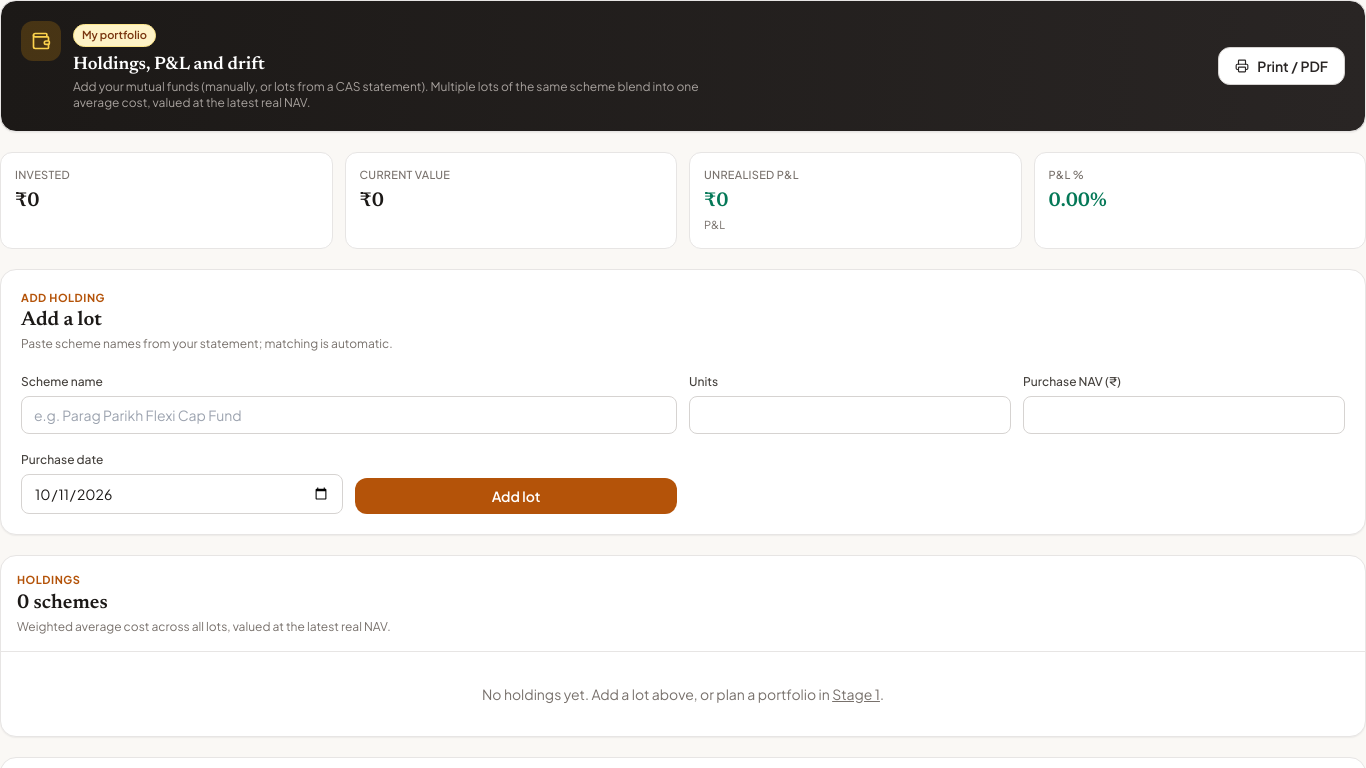
Scenario: Portfolio page › blends a manual lot and shows P&L
Expected: the heading "Holdings, P&L and drift" is shown, [73,56,265,74]
In the field labelled "Scheme name": (349, 415) [21,396,677,434], type "Parag Parikh Flexi Cap Fund"
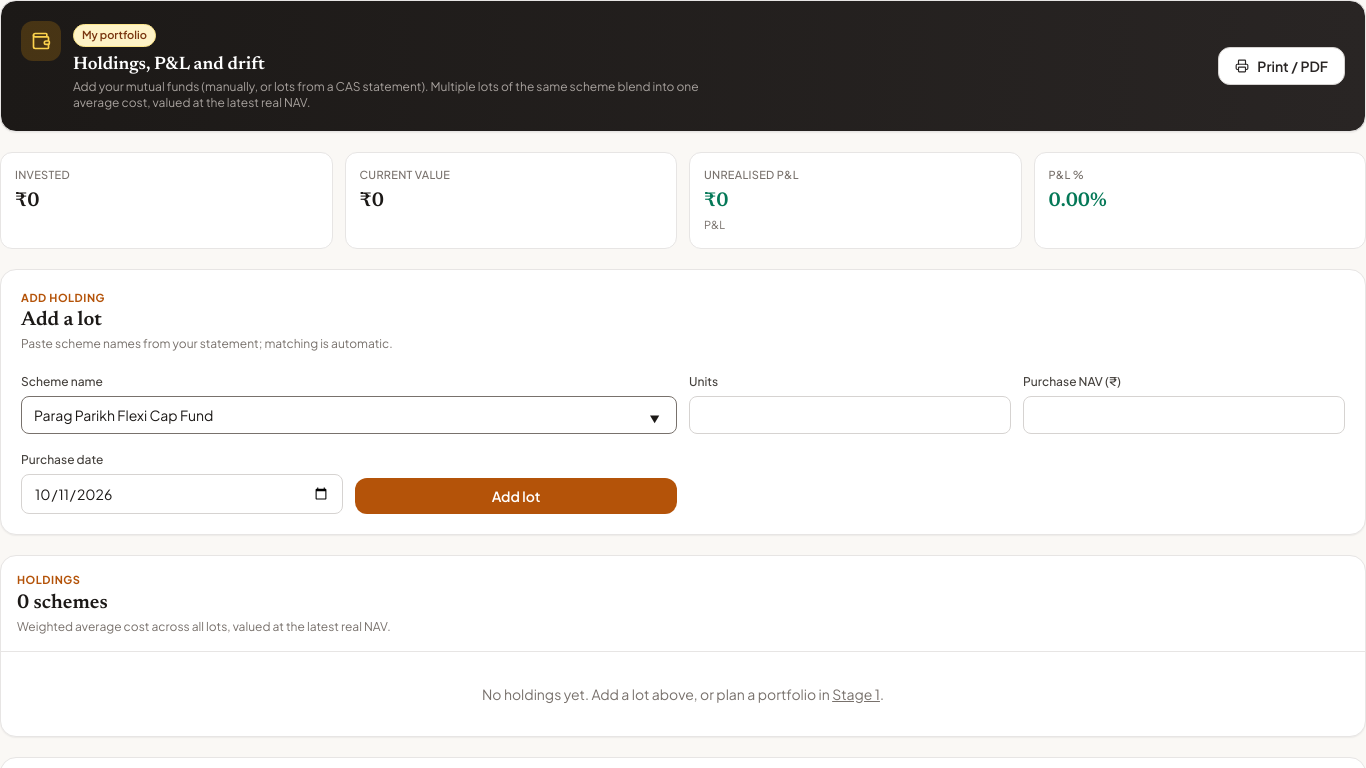
In the number field labelled "Units": (850, 415) [689,396,1011,434], type "100"
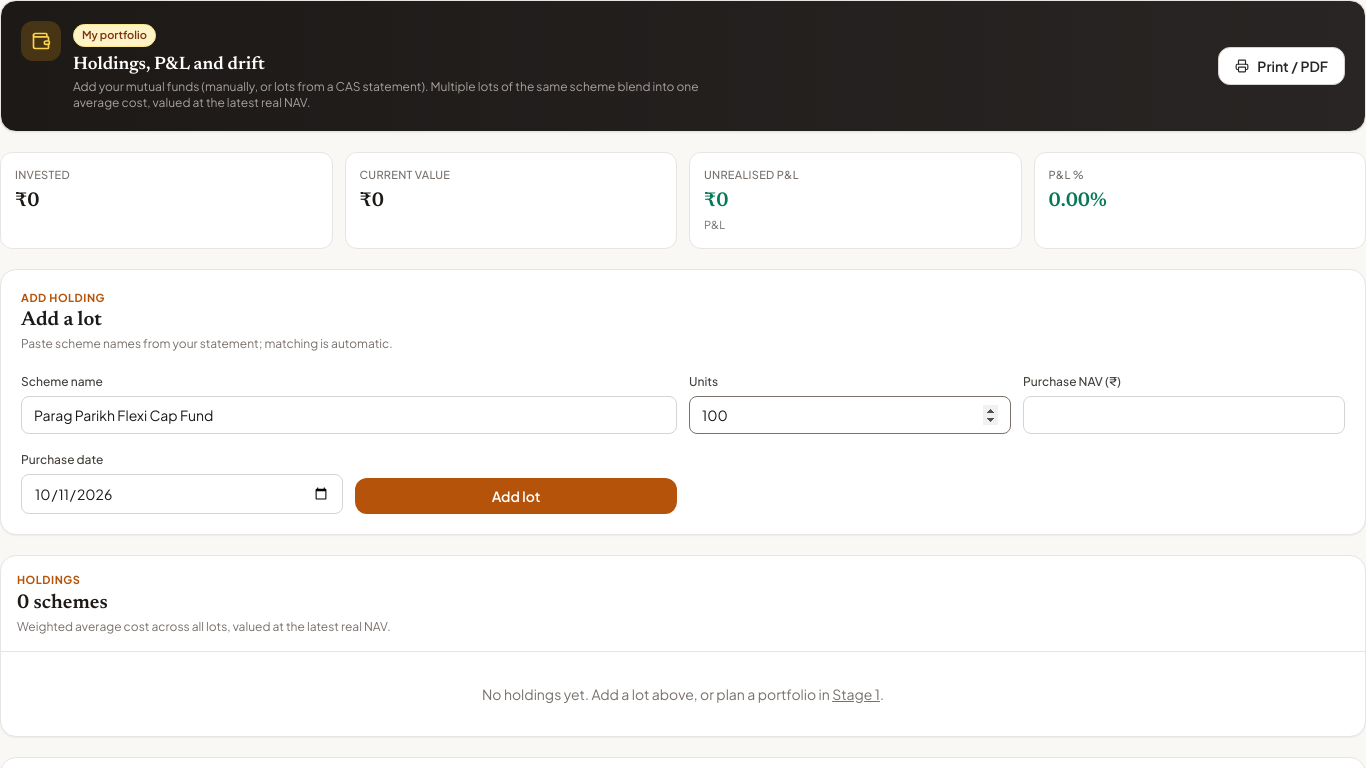
In the number field labelled "Purchase NAV (₹)": (1184, 415) [1023,396,1345,434], type "50"
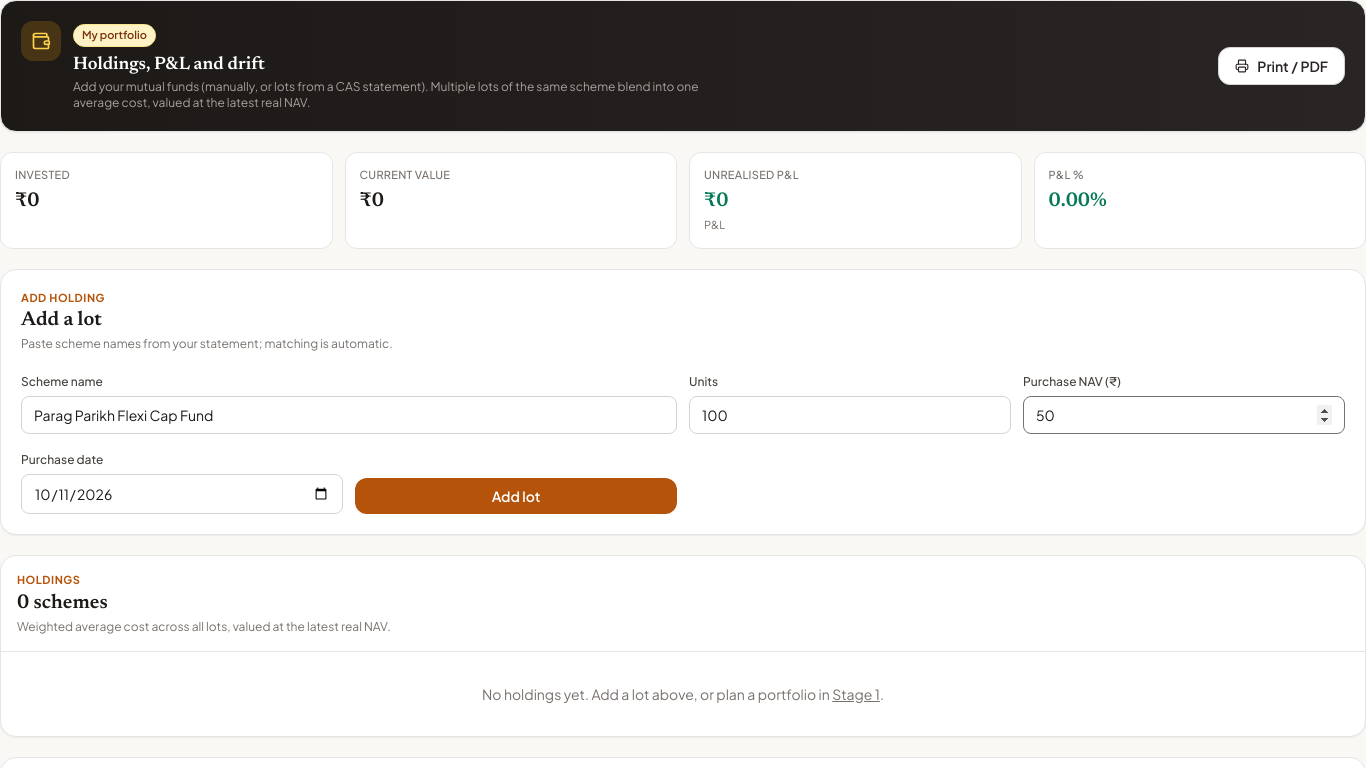
Click the button "Add lot": (516, 496) [355,478,677,514]
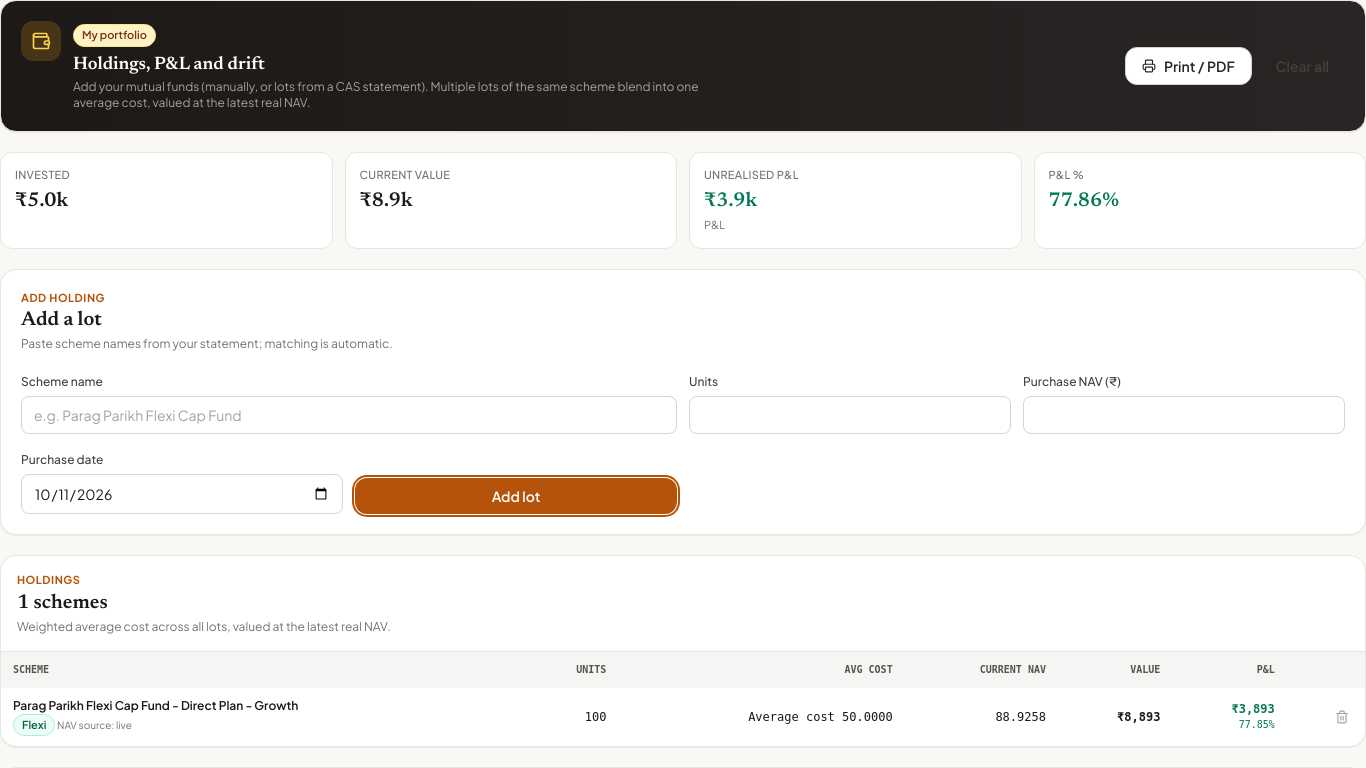
Result: the column heading "Avg cost" is shown at [618,652,905,688]
Result: the text "Parag Parikh Flexi Cap Fund - Direct Plan - Growth" is shown at [13,698,298,712]
